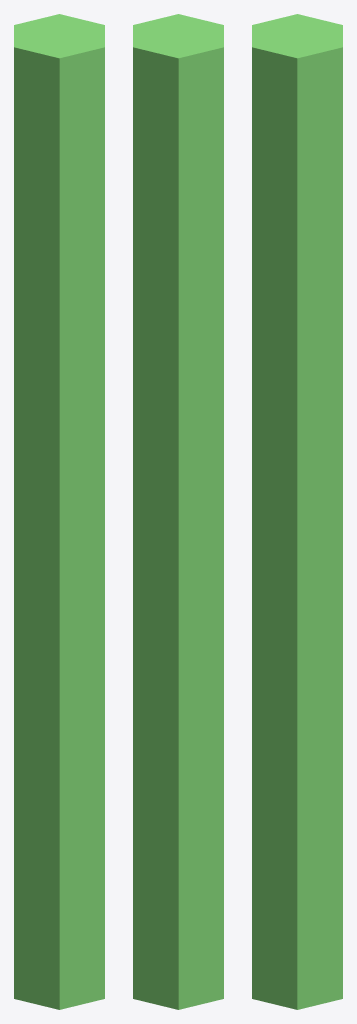
File: Terrain_Tile_Default.fbx
3 renders of one model, left to right at view 1: azimuth 90°, elevation 25°; view 2: azimuth 210°, elevation 25°; view 3: azimuth 270°, elevation 25°, orthographic.
Parts seen in each view (by area): view 1: TerrainPiece; view 2: TerrainPiece; view 3: TerrainPiece.
Boxes of the visible parts, left/top/right/bottom form: TerrainPiece: left=14, top=14, right=104, bottom=1009; TerrainPiece: left=133, top=14, right=223, bottom=1009; TerrainPiece: left=252, top=14, right=342, bottom=1009.
Size of the model in its own units: 200 by 173 by 2000.
